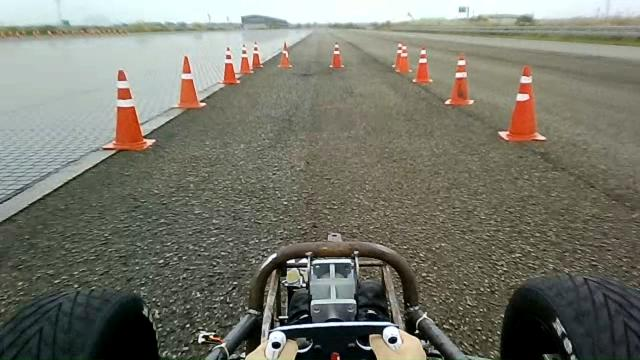red cone: (101, 68, 156, 151), (497, 64, 547, 142), (172, 54, 206, 109), (444, 52, 475, 106), (219, 46, 240, 84), (412, 46, 433, 83), (238, 43, 254, 74)
